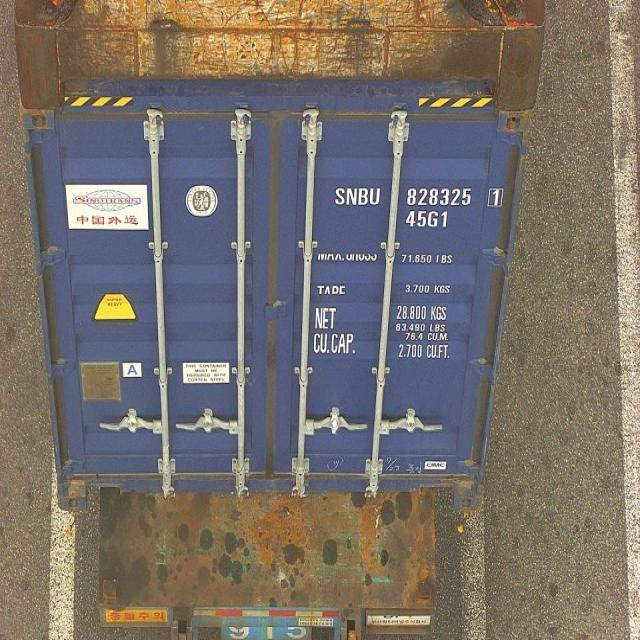ISO: (406, 212, 448, 229)
container_number: (338, 186, 495, 210)
